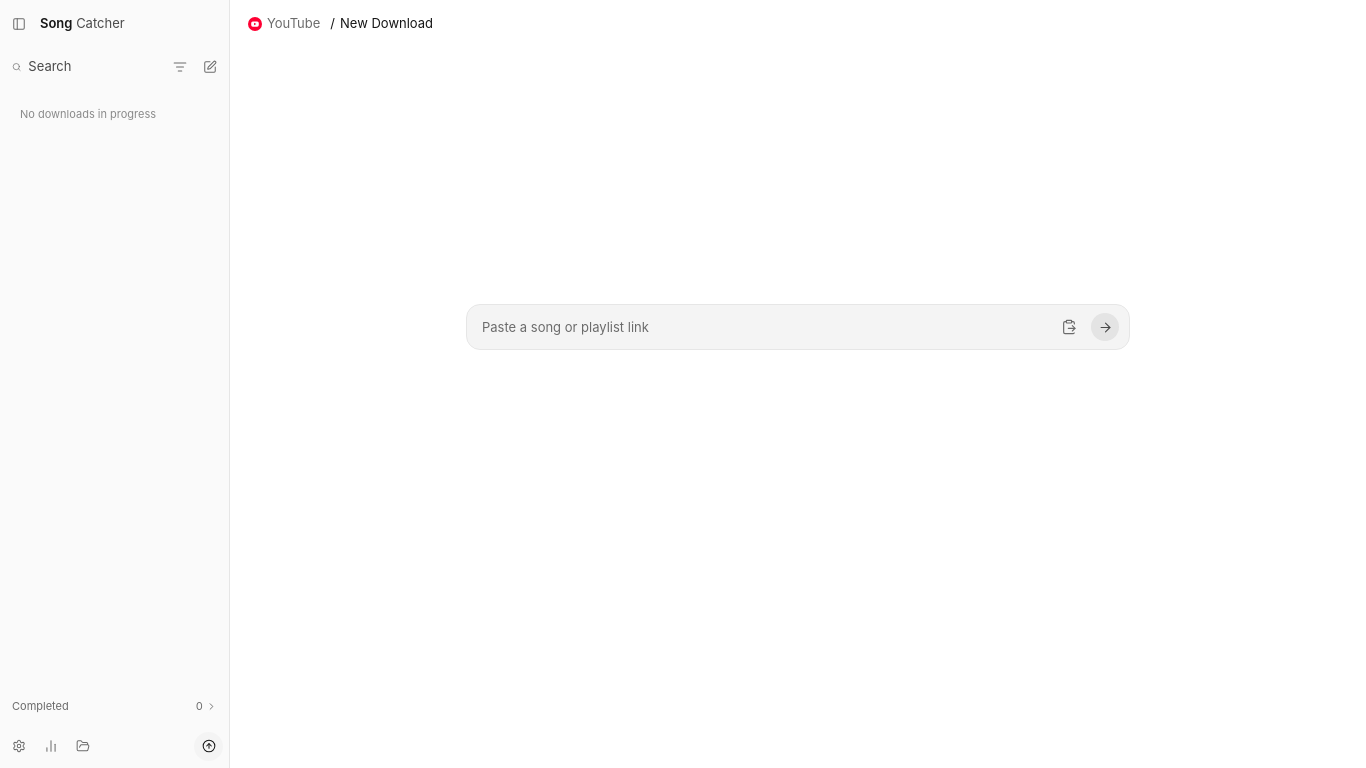
Test: App › starts a new download for the picked source
Click the button named "New download" at (210, 67), box top-left (197, 54), bottom-right (223, 80)
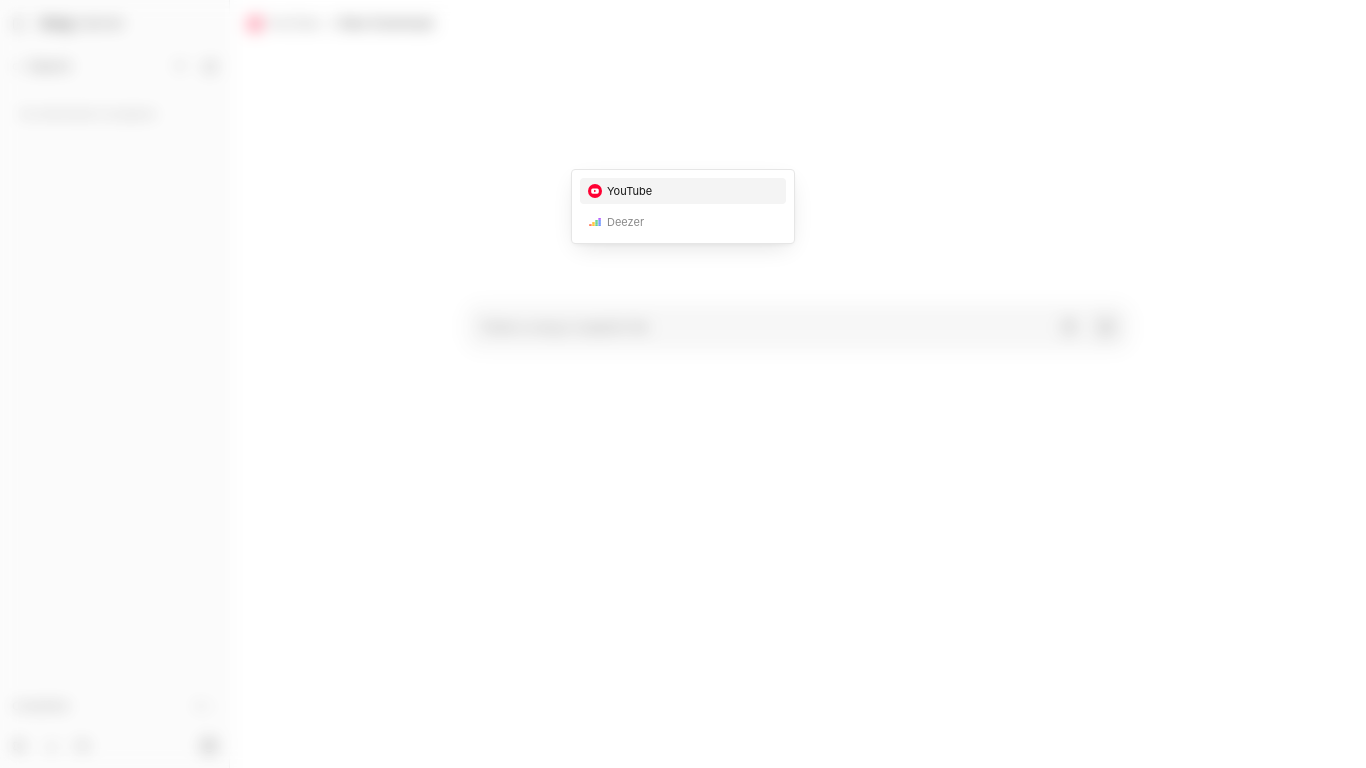
Click the button "Deezer" at (683, 222), box top-left (580, 209), bottom-right (786, 235)
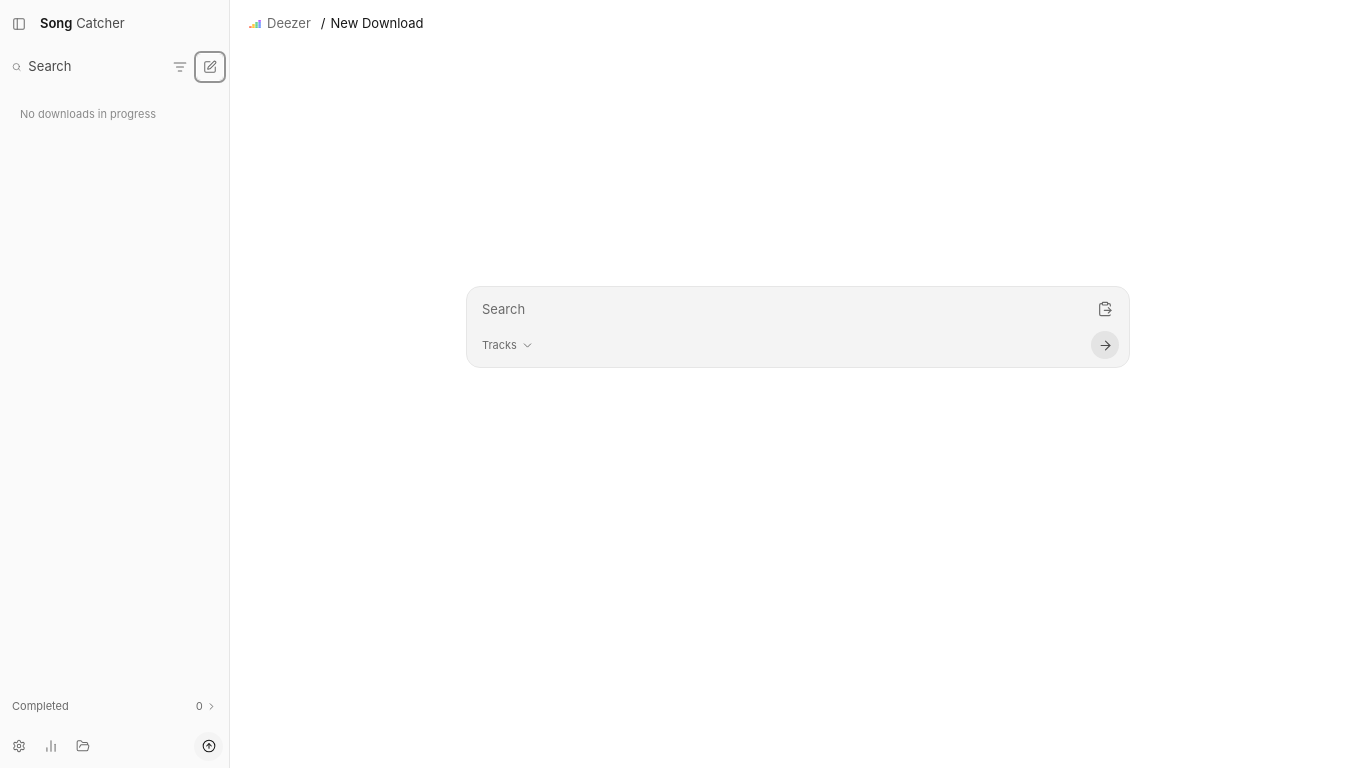
Expected: the navigation bar named "Breadcrumb" reads "Deezer / New Download", top-left (248, 14), bottom-right (424, 34)
Expected: the field named "Search query" is shown, top-left (482, 295), bottom-right (1083, 323)
Expected: the dialog is gone
